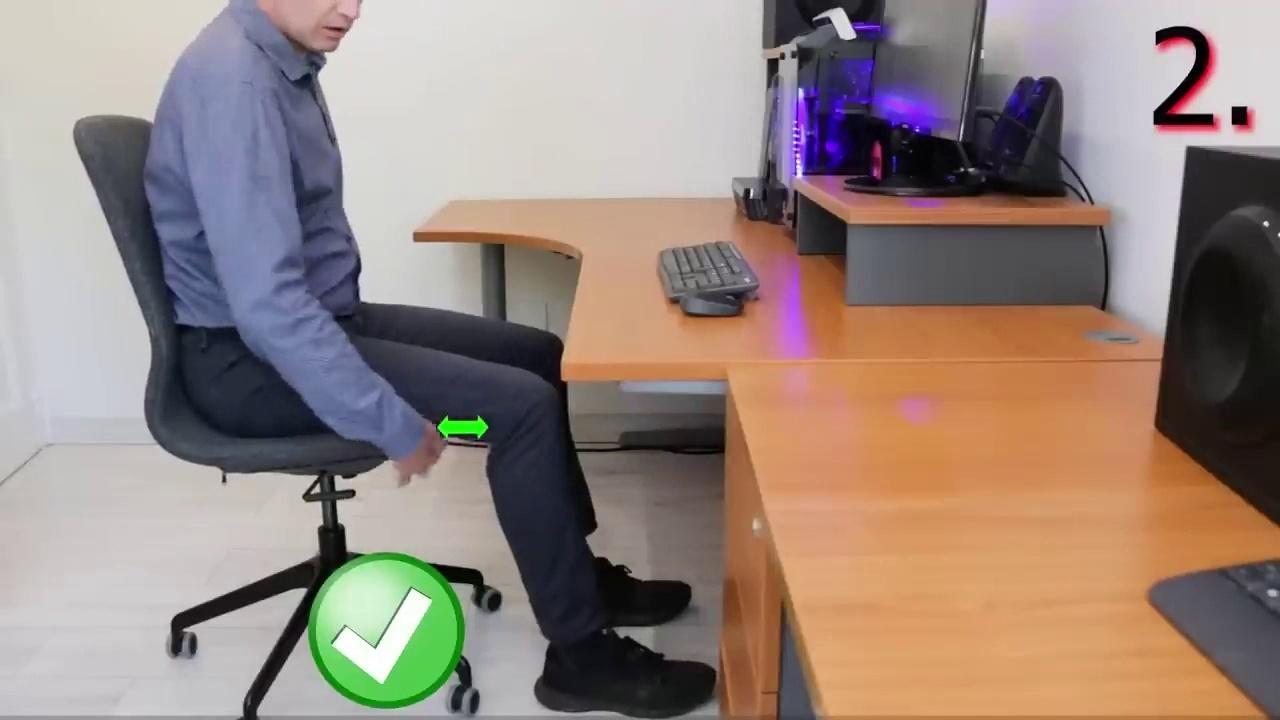GoodPosture: (164, 0, 714, 716)
